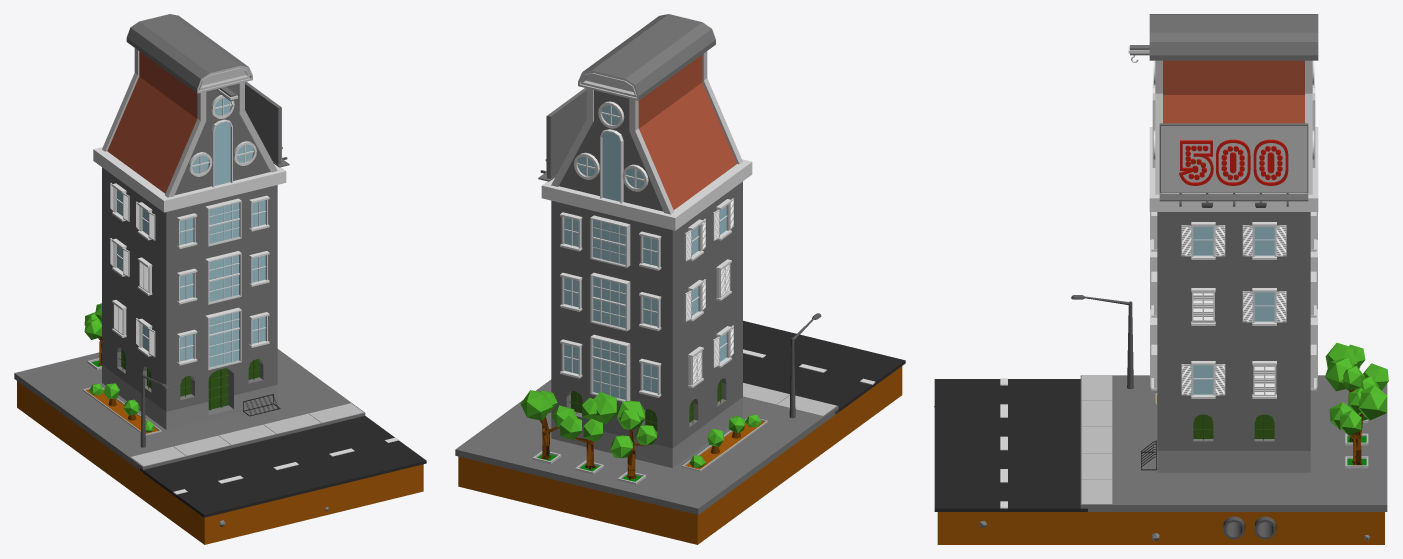
File: cities_b3.fbx
The picture shows the model from 3 angles, left to right: view 1: azimuth 30°, elevation 25°; view 2: azimuth 150°, elevation 25°; view 3: azimuth 270°, elevation 25°; orthographic projection. The views are drawn at different scales.
Parts seen in each view (by area): view 1: Cube, Cube_2_11, ZEMIN, Cube_17_2, Polygon, Cube_3_47, Cube_1_14, Cube_5_19, Cube_2_8, Cube_1_2, Cube_5_17, Cube_9 (+12 smaller); view 2: Cube, ZEMIN, Cube_17_2, Polygon, Cube_2_11, Cube_3_47, Cube_1_14, Cube_2_8, Cube_5_19, Cube_1_2, Cube_7_5, Cube_9 (+12 smaller); view 3: Cube, ZEMIN, Cube_2_11, Cube_17_2, Cube_3_47, Cube_2_9, Cube_2_8, Polygon, Cap_2, Cube_1_14, Cube_1_15, Cube_5_19 (+17 smaller).
Part boxes in pixels (x1,y1,x2,y2): Cube: [102, 167, 277, 429]; Cube_2_11: [140, 416, 426, 517]; ZEMIN: [14, 349, 365, 472]; Cube_17_2: [17, 381, 423, 544]; Polygon: [107, 76, 270, 195]; Cube_3_47: [126, 14, 252, 93]; Cube_1_14: [93, 147, 286, 212]; Cube_5_19: [245, 81, 281, 164]; Cube_2_8: [139, 51, 238, 118]; Cube_1_2: [209, 311, 240, 368]; Cube_5_17: [165, 109, 277, 197]; Cube_9: [209, 254, 240, 303]; Cube: [551, 181, 742, 468]; ZEMIN: [455, 379, 838, 514]; Cube_17_2: [458, 366, 902, 544]; Polygon: [559, 82, 736, 211]; Cube_2_11: [743, 320, 905, 413]; Cube_3_47: [578, 14, 715, 100]; Cube_1_14: [541, 159, 752, 230]; Cube_2_8: [589, 55, 702, 204]; Cube_5_19: [547, 88, 586, 178]; Cube_1_2: [591, 338, 625, 401]; Cube_7_5: [551, 118, 674, 214]; Cube_9: [591, 276, 625, 329]; Cube: [1157, 212, 1310, 472]; ZEMIN: [1080, 375, 1387, 511]; Cube_2_11: [934, 379, 1087, 511]; Cube_17_2: [937, 512, 1384, 544]; Cube_3_47: [1149, 14, 1318, 60]; Cube_2_9: [1161, 126, 1307, 192]; Cube_2_8: [1163, 60, 1304, 94]; Polygon: [1163, 95, 1304, 123]; Cap_2: [1179, 140, 1288, 185]; Cube_1_14: [1149, 127, 1318, 211]; Cube_1_15: [1159, 194, 1308, 201]; Cube_5_19: [1159, 123, 1308, 193].
Size of the model in its own units: 405 by 659 by 594.
